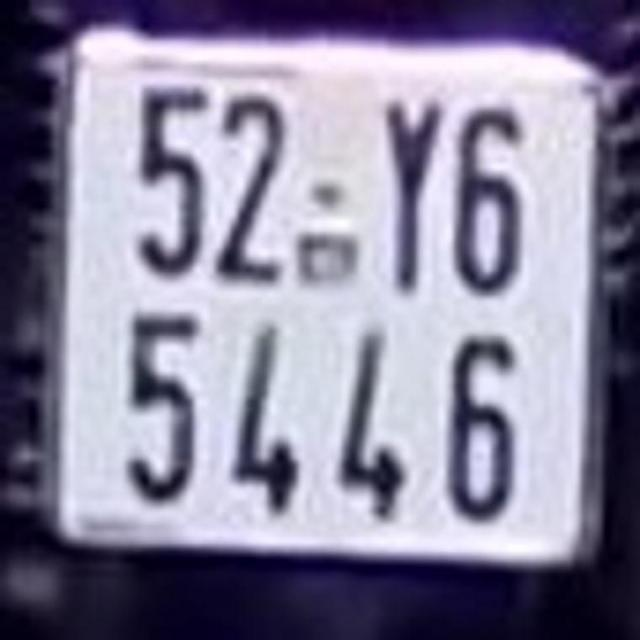2: (216, 76, 282, 296)
4: (338, 311, 408, 528), (232, 313, 300, 520)
5: (122, 300, 201, 507), (136, 67, 203, 279)
6: (448, 83, 528, 295), (442, 321, 521, 529)
Y: (382, 86, 446, 292)
